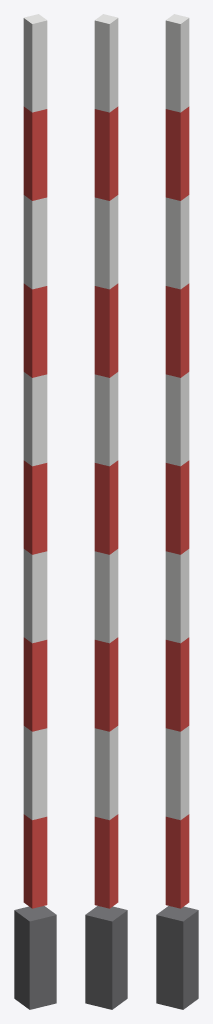
File: azd_zavora_nahore_z.glb
3 renders of one model, left to right at view 1: azimuth 30°, elevation 25°; view 2: azimuth 150°, elevation 25°; view 3: azimuth 330°, elevation 25°, orthographic.
Parts seen in each view (by area): view 1: azd_zavora_nahore_z; view 2: azd_zavora_nahore_z; view 3: azd_zavora_nahore_z.
Boxes of the visible parts, bbox=[...] form: azd_zavora_nahore_z: bbox=[14, 14, 56, 1009]; azd_zavora_nahore_z: bbox=[85, 14, 127, 1009]; azd_zavora_nahore_z: bbox=[156, 14, 198, 1009].
Bounding box in the file's own units: 0.16 × 5.55 × 0.16.
